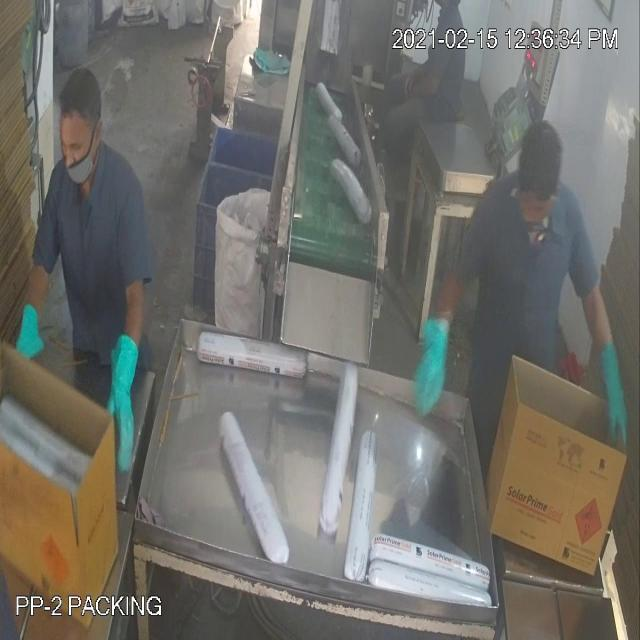gloves: (92, 315, 142, 487), (584, 320, 634, 454), (405, 298, 456, 428)
